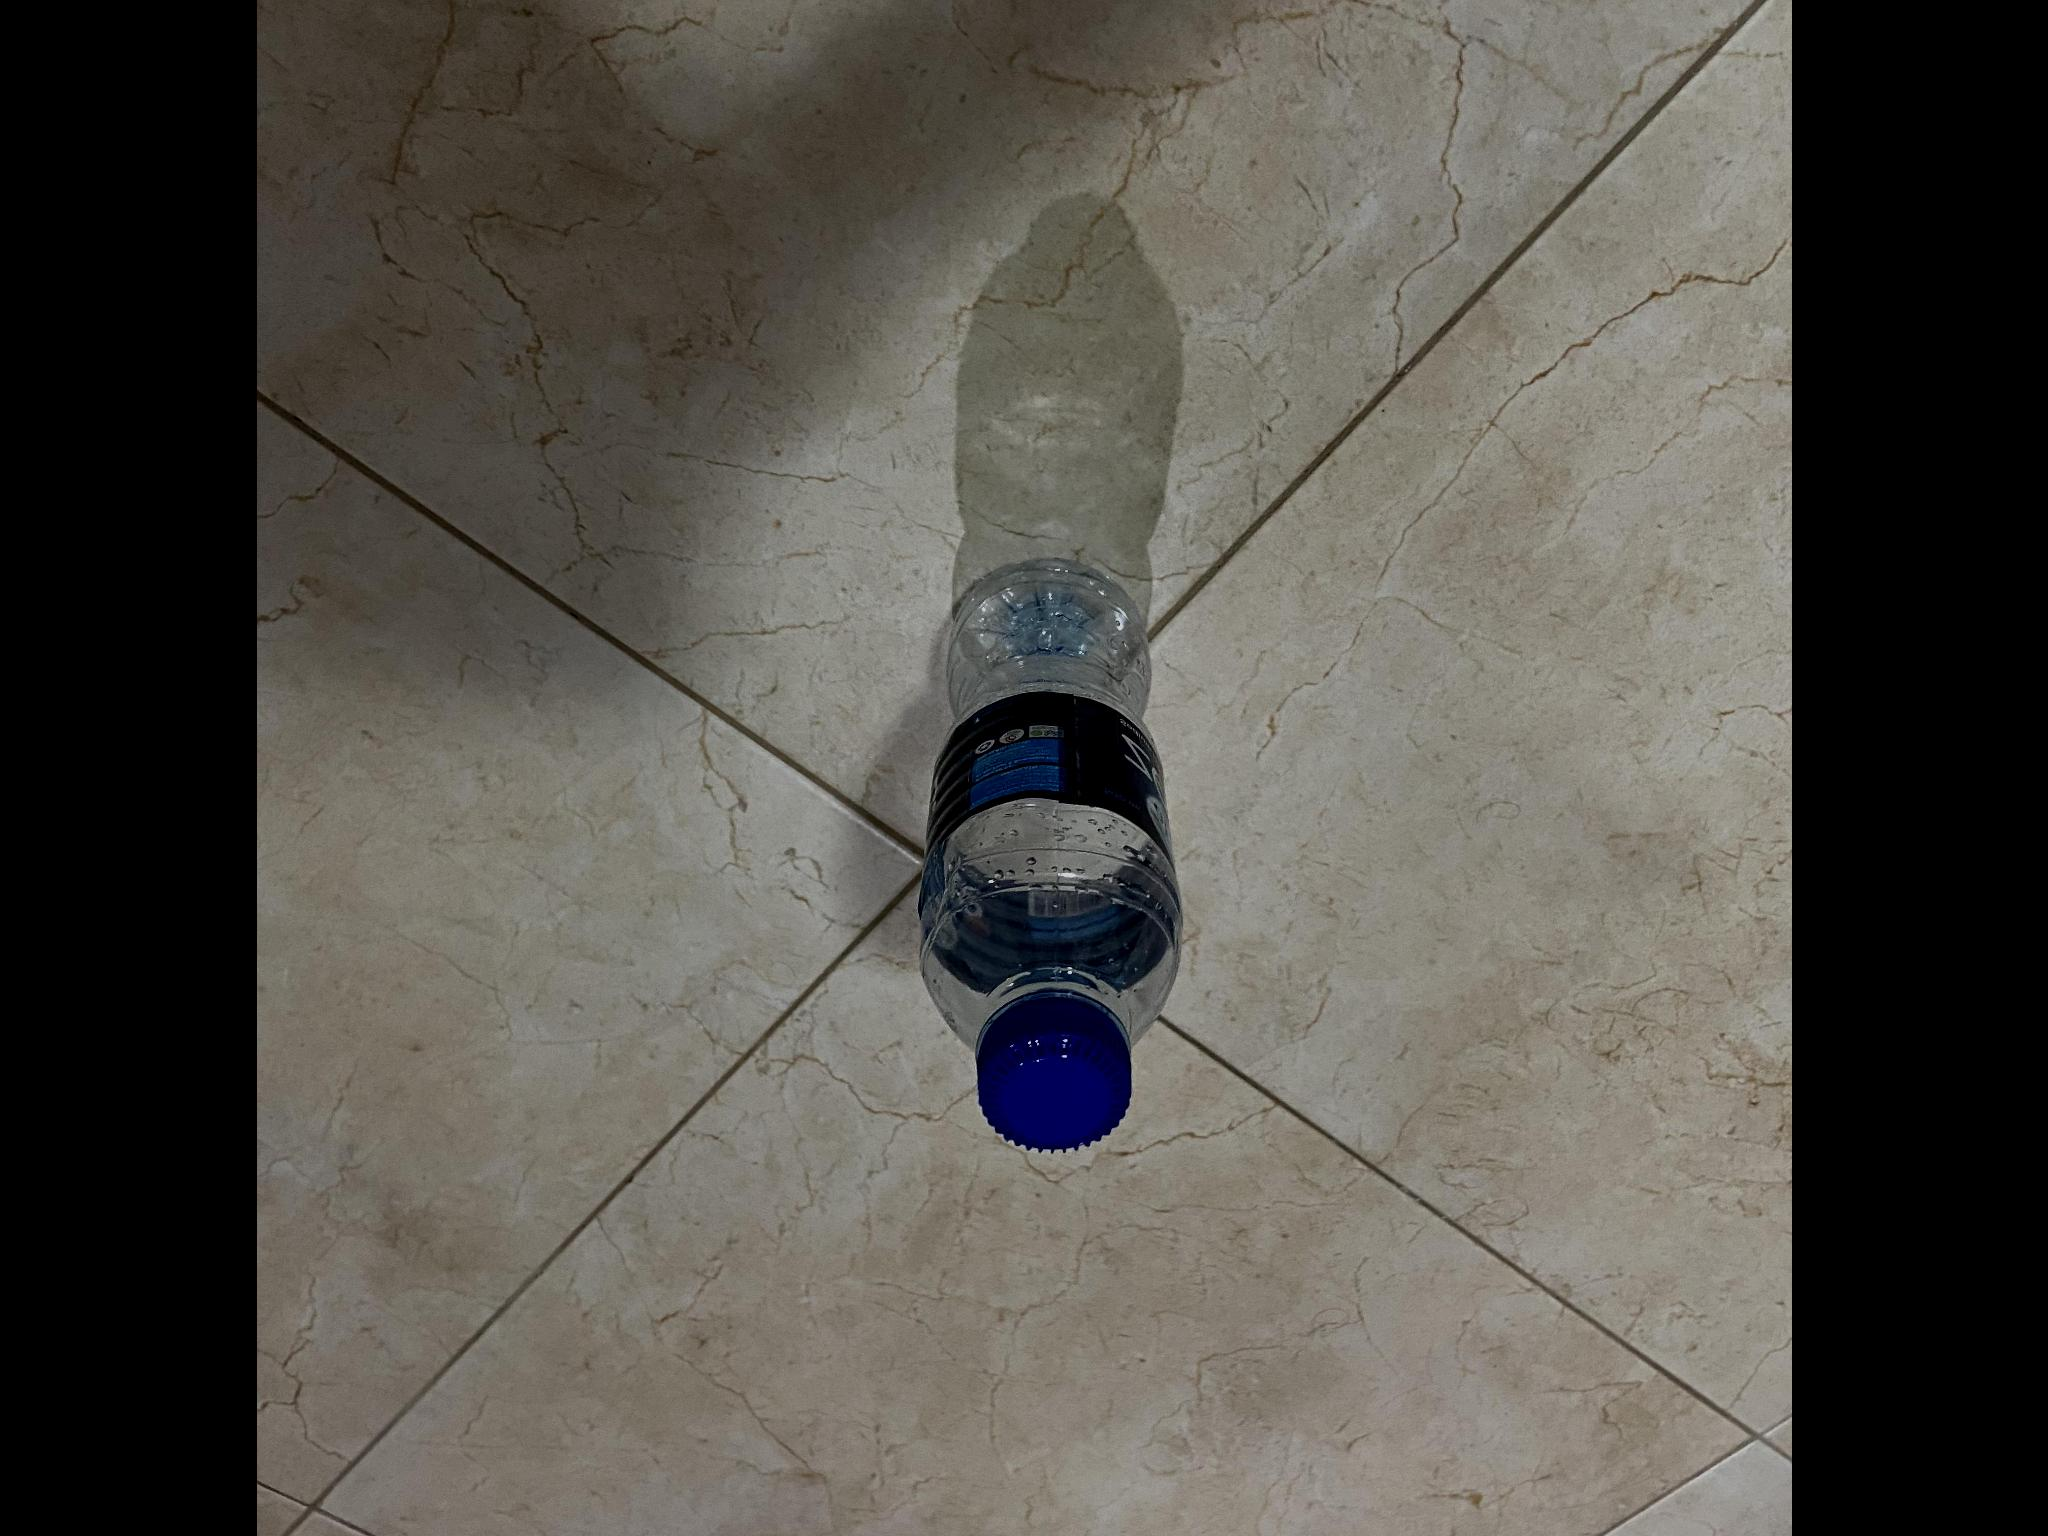bottle: (890, 555, 1214, 1173)
